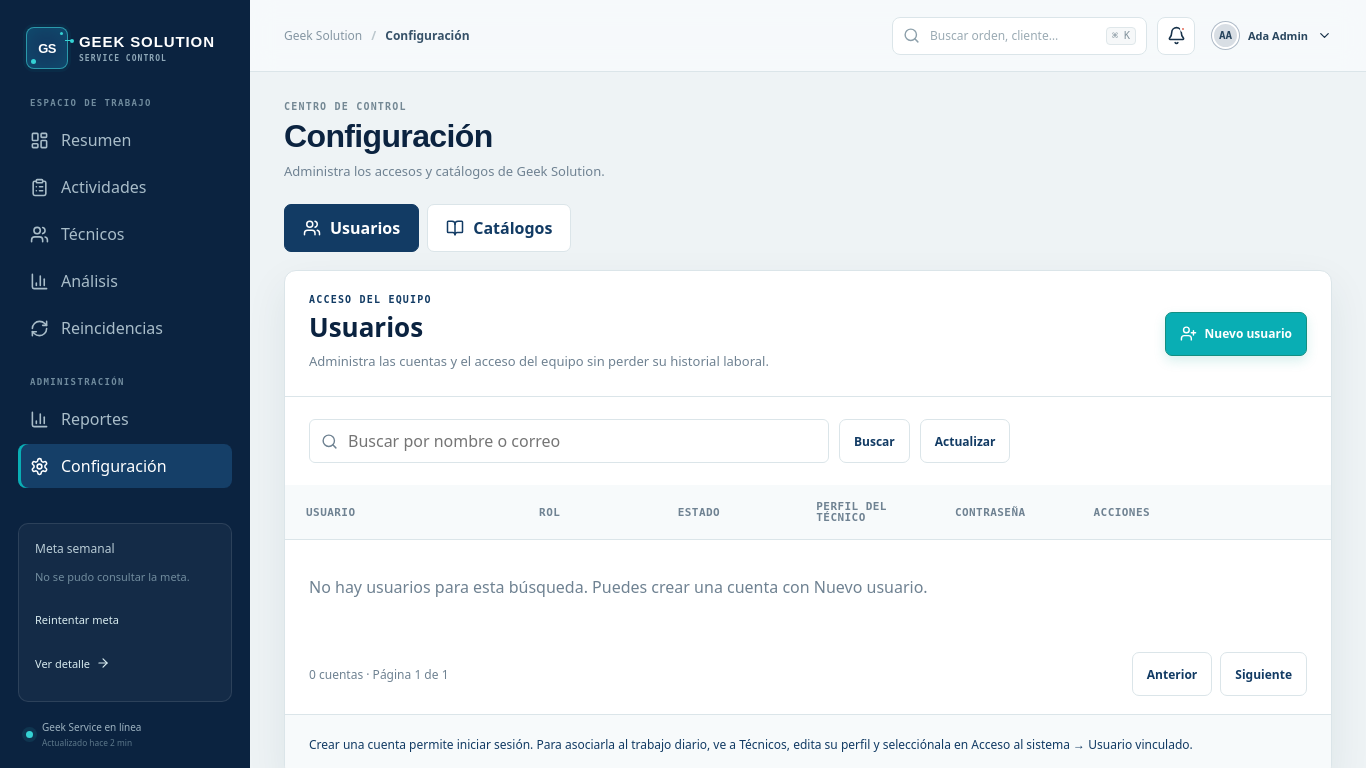
Scenario: catálogos en Configuración › desactiva una opción con código de solo lectura y control de concurrencia
Click the button "Catálogos": (499, 228) [427,204,571,252]
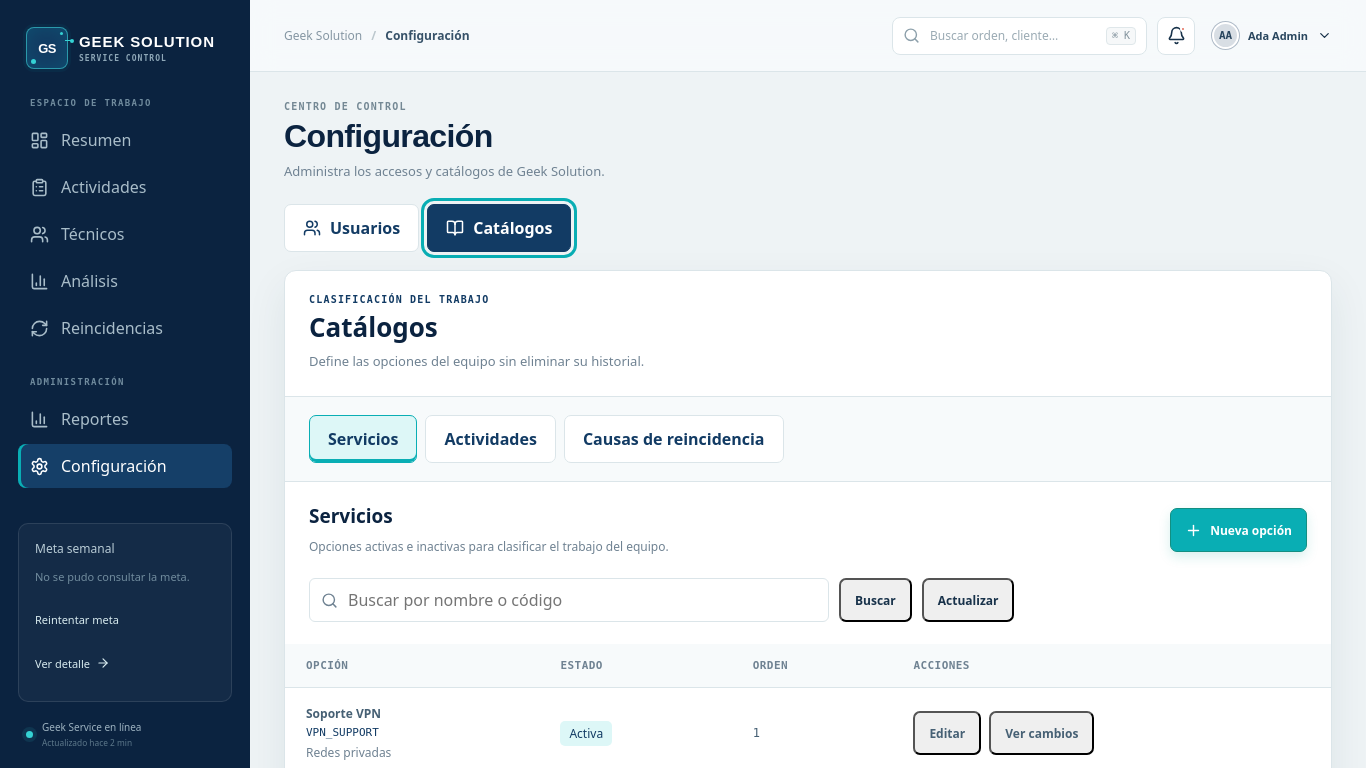
Now the text "Soporte VPN" is shown, box [306,705,381,722]
Click the button with aria-label "Editar Soporte VPN": (947, 733) [913,711,981,755]
(page scrolled)
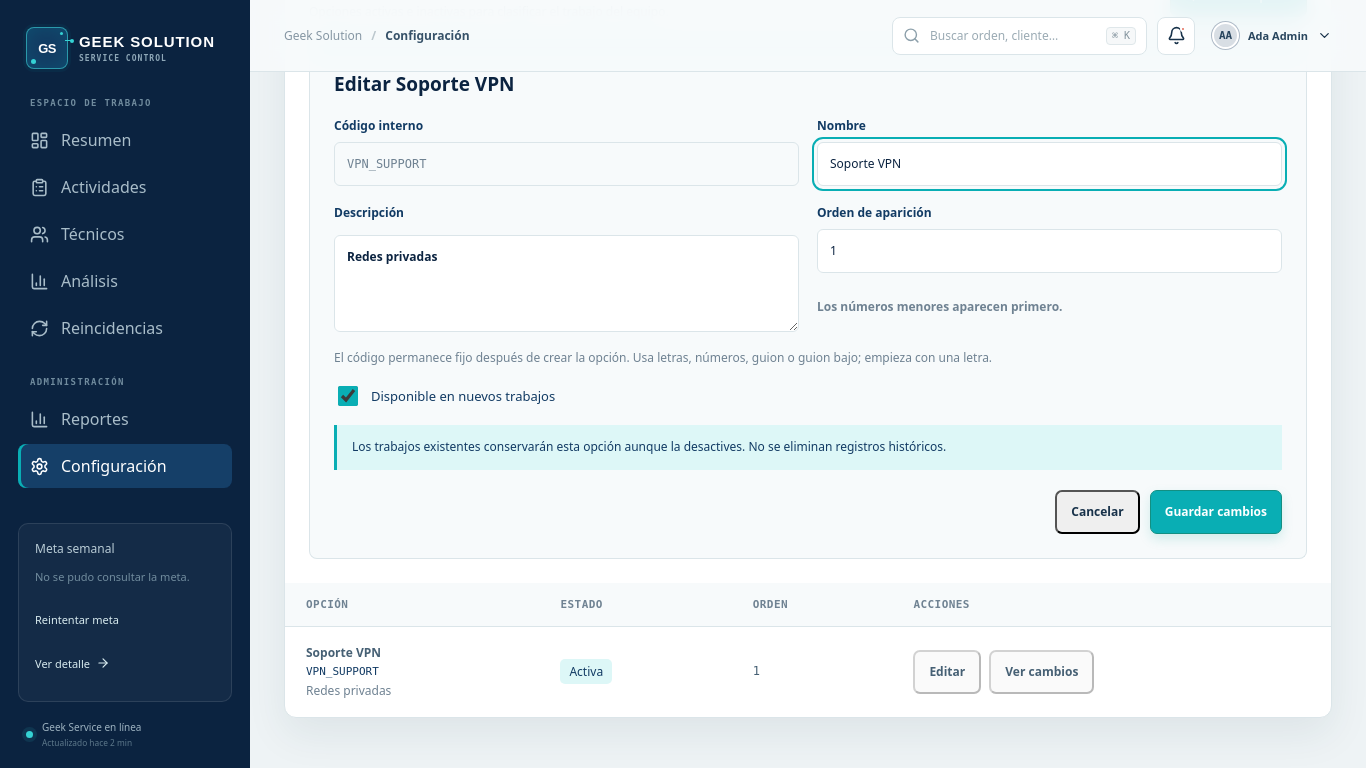
Click the checkbox labelled "Disponible en nuevos trabajos": (348, 396) [338,386,358,406]
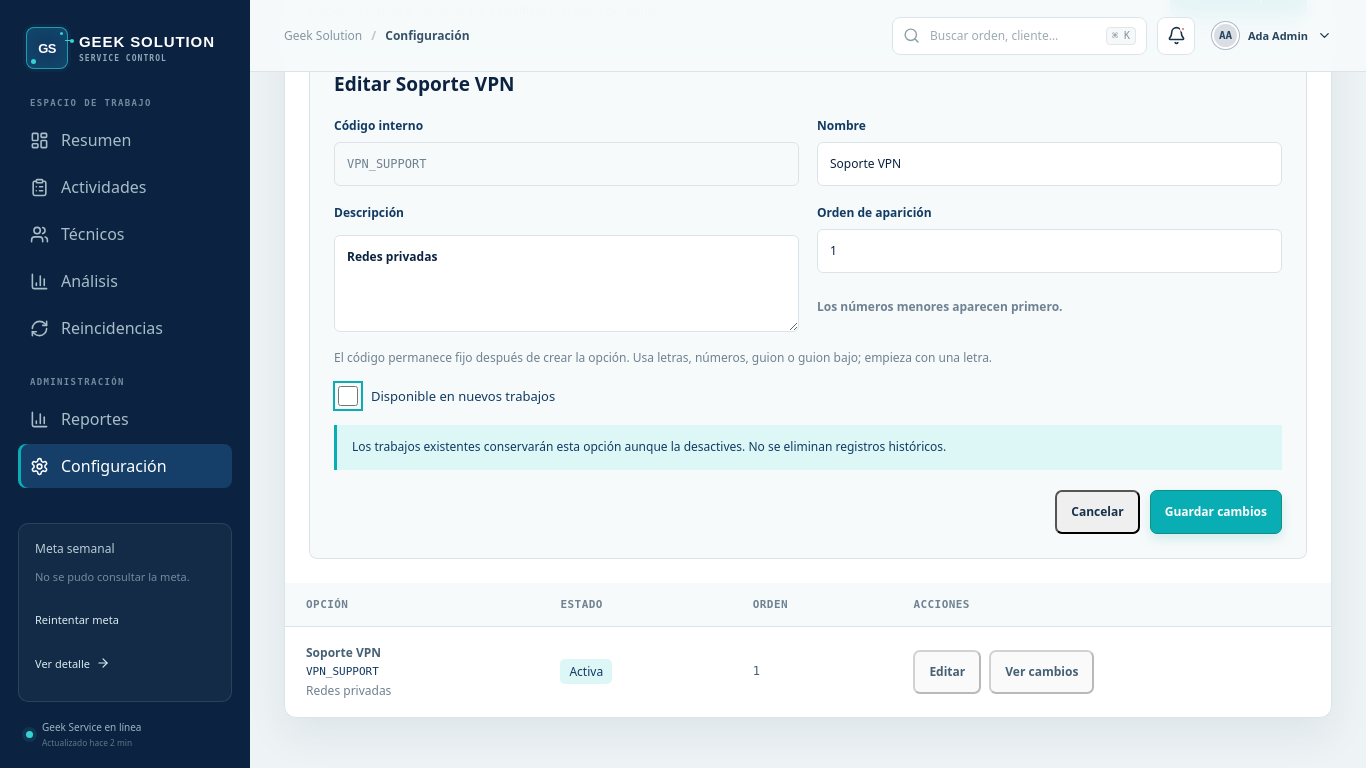
Now the text "Los trabajos existentes conservarán" is shown, box [352,438,946,455]
Click the button "Guardar cambios": (1216, 512) [1150,490,1282,534]
(page scrolled)
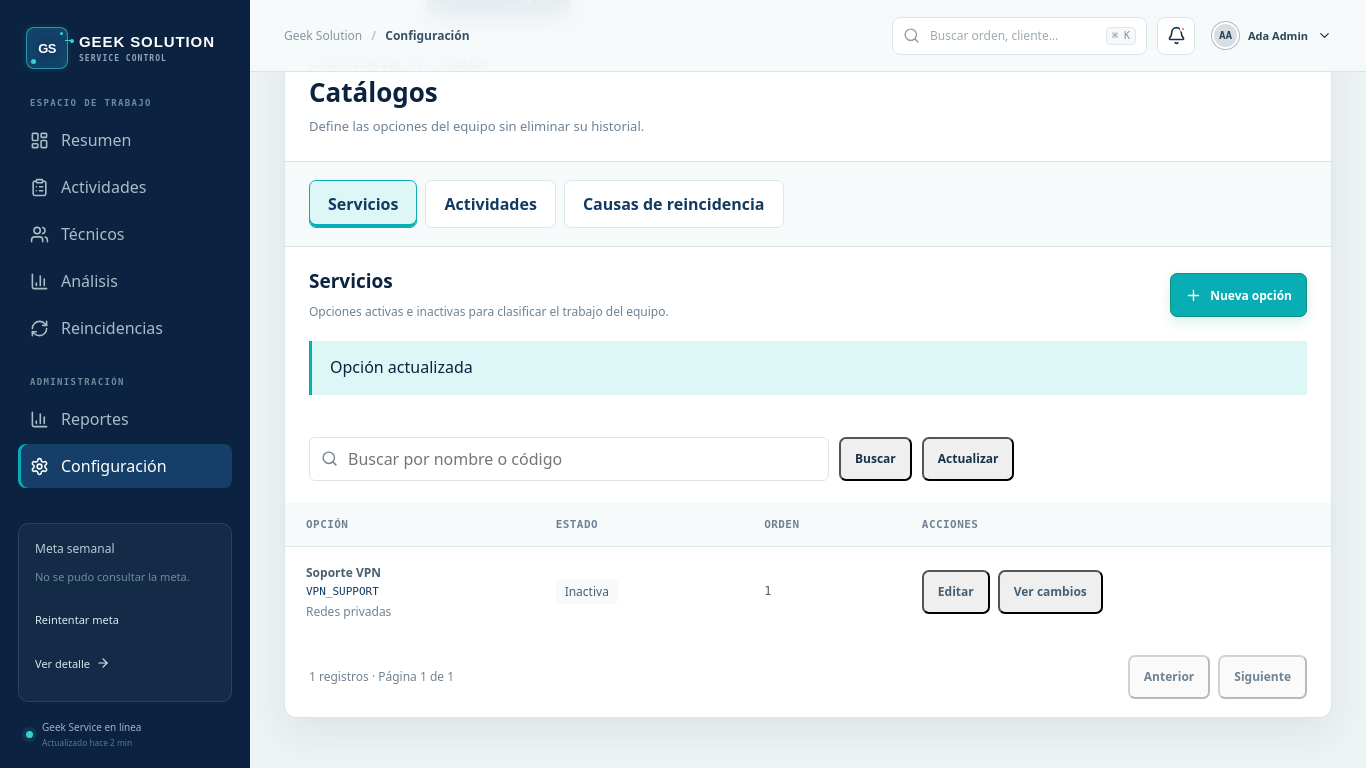
Now the message "Opción actualizada" is shown, box [309,341,1307,395]
Now the text "Inactiva" is shown, box [556,579,618,604]
